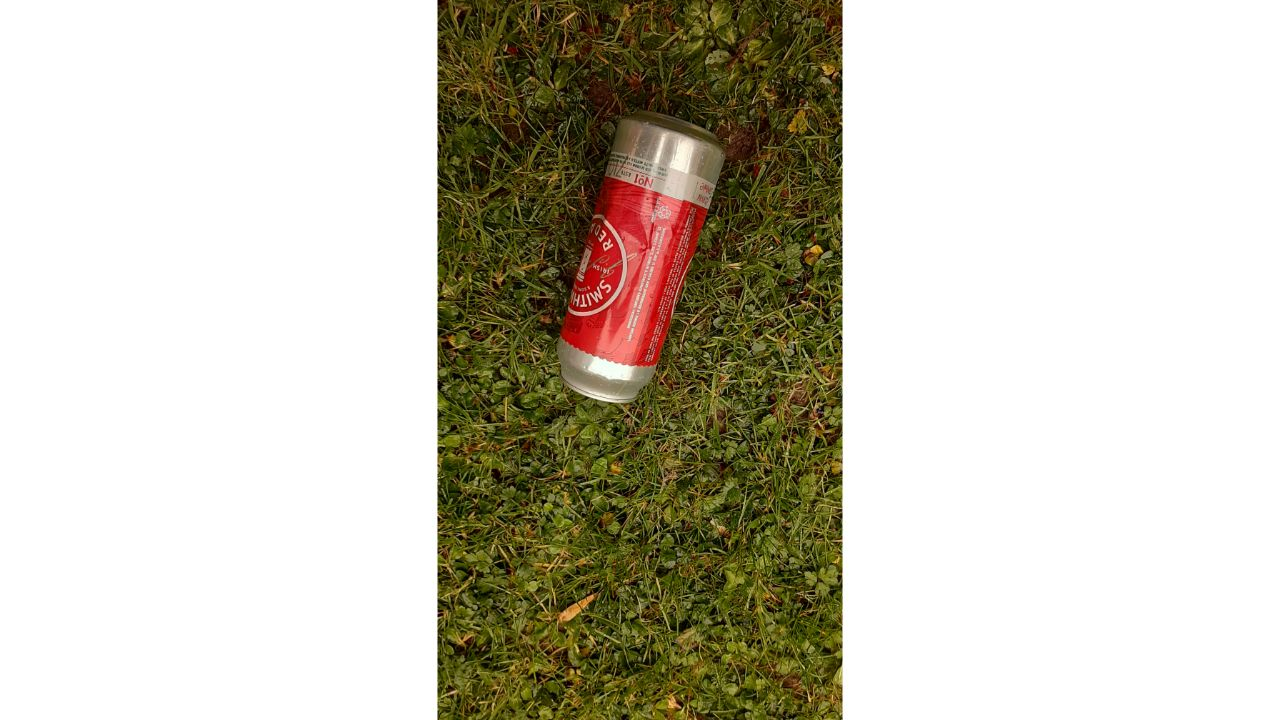Can: (555, 107, 726, 405)
